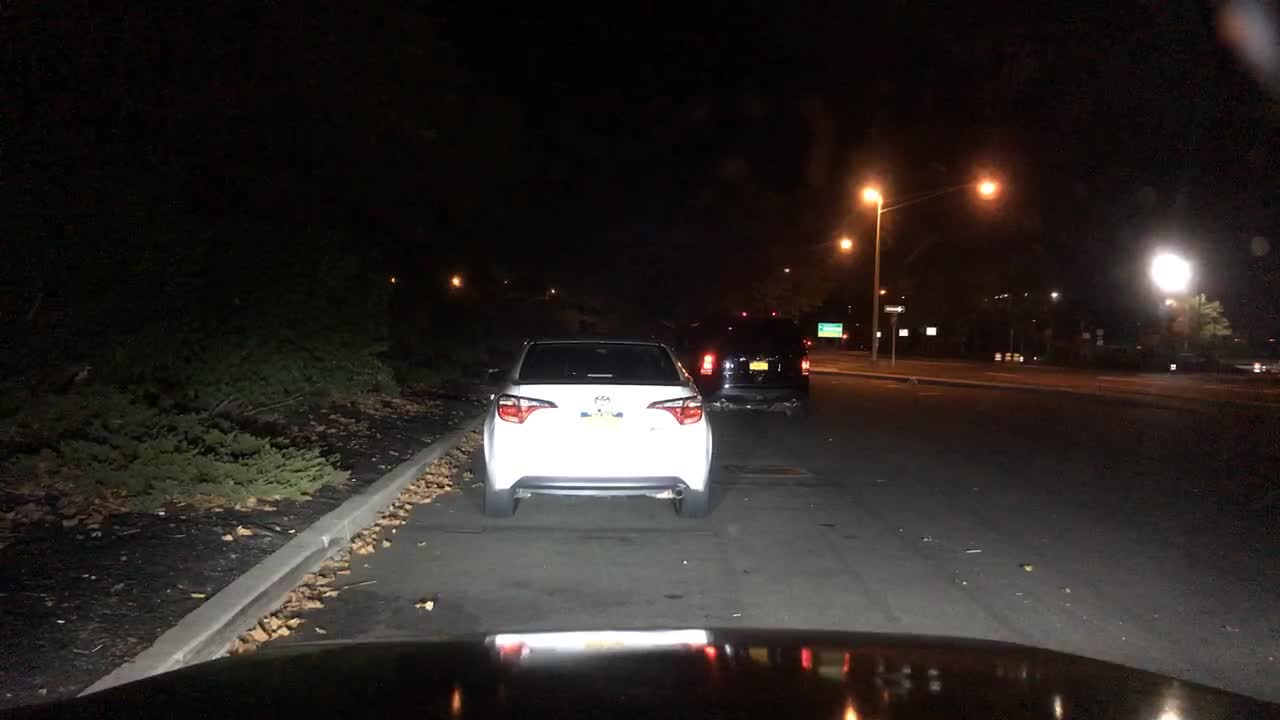car: (477, 332, 714, 520), (684, 311, 811, 423)
traffic sign: (816, 321, 842, 338), (882, 303, 907, 315), (1094, 327, 1106, 347), (1080, 330, 1093, 341)
